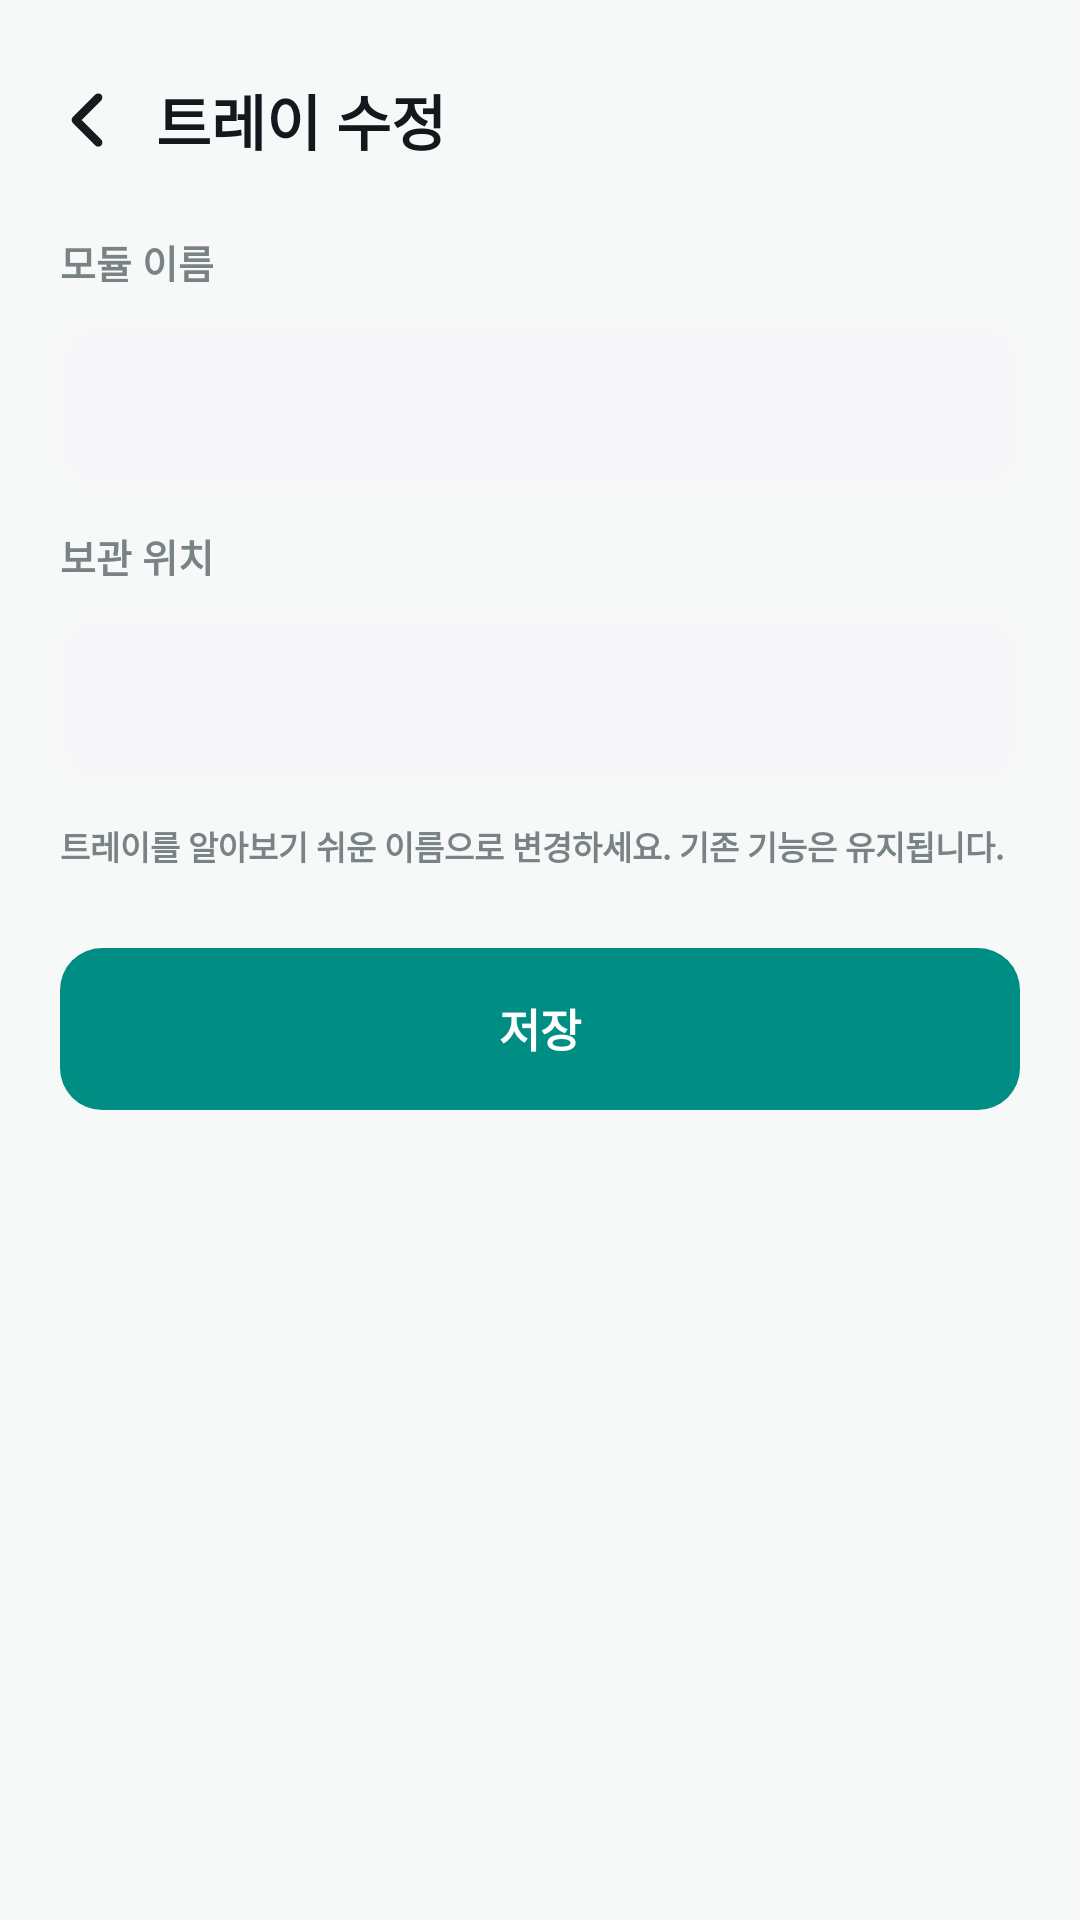

Named icons in this screenshot (1080px×1920px) and their bounding boxes, region(x1, y1, x2, y2):
chevron left: region(71, 93, 103, 147)
